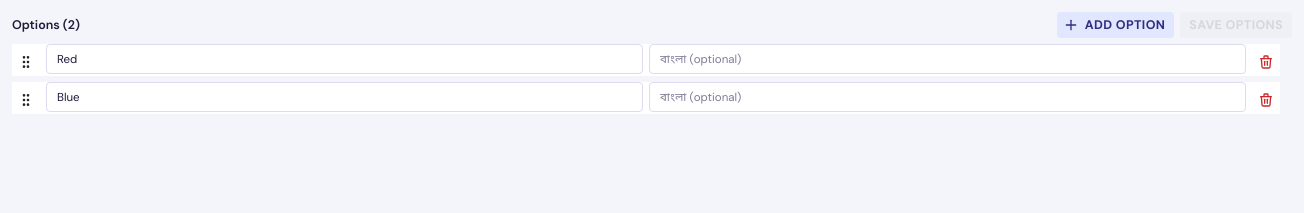
Test: OptionEditor › highlights case-insensitive duplicates and blank rows on save
Replace the text in the 2nd field named "Option (English)" with "red". click: (344, 97)
box: [46,82,643,112]
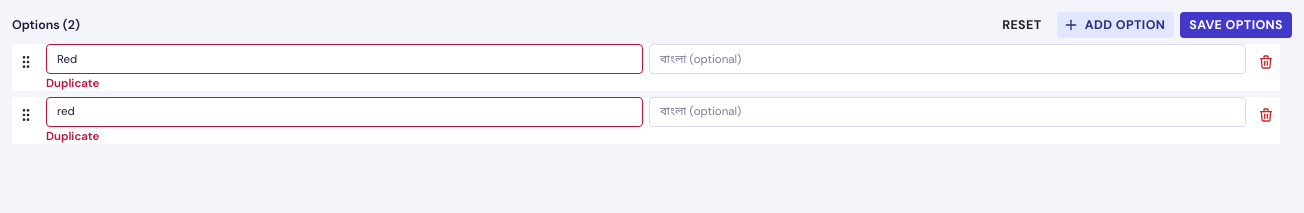
Now the text "Duplicate" is shown 2 times, box [46,76,99,91]; [46,129,99,144]
Click the button "Add option". click: (1115, 25)
box: [1056,12,1174,38]
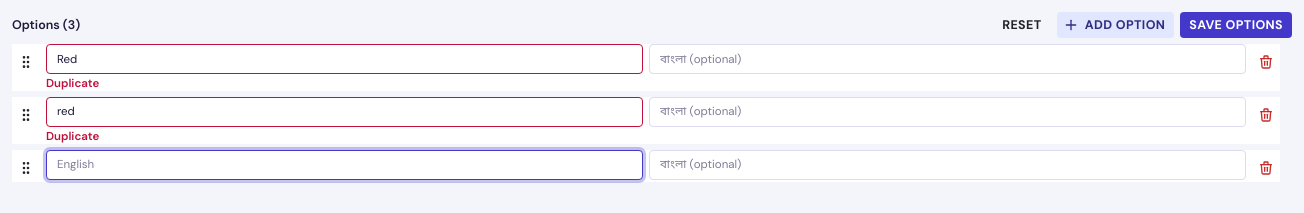
Click the button "Save options". click: (1236, 25)
box: [1180,12,1292,38]
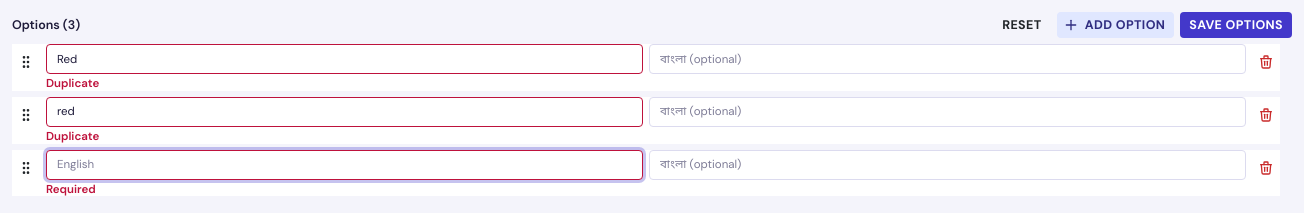
Now the text "Required" is shown, box [46,182,96,197]
